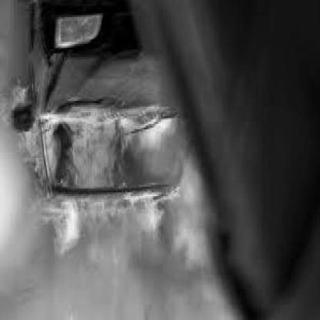Fire: (16, 97, 174, 253)
